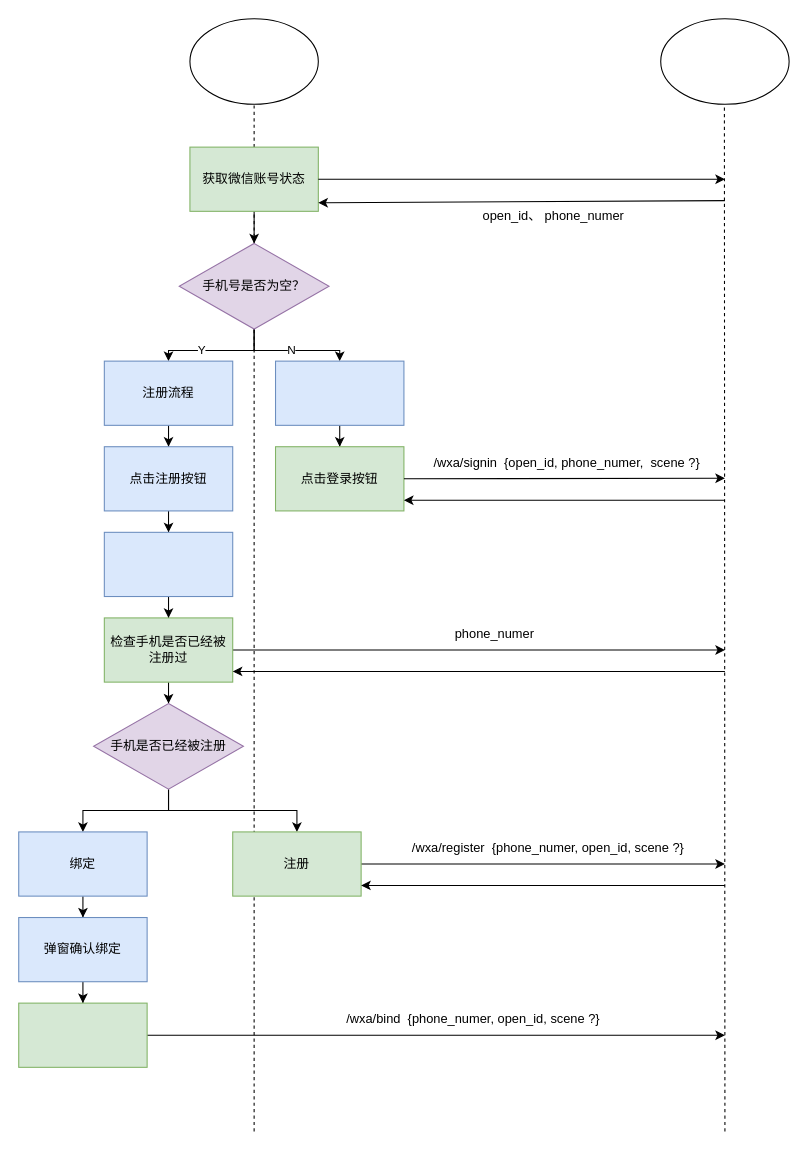
Some shapes in this 808 by 1151 pixel diagram are drawn without their labels. The shapes that lost their labels are listed below. From the top down, each one's box as (x1, y1, x2, y2) in pixels, then its label:
(189, 18, 318, 104): 小程序
(660, 18, 789, 104): auth server
(274, 360, 404, 425): 登录流程
(103, 531, 233, 597): 用户授权手机号
(18, 1002, 147, 1067): 确认绑定
